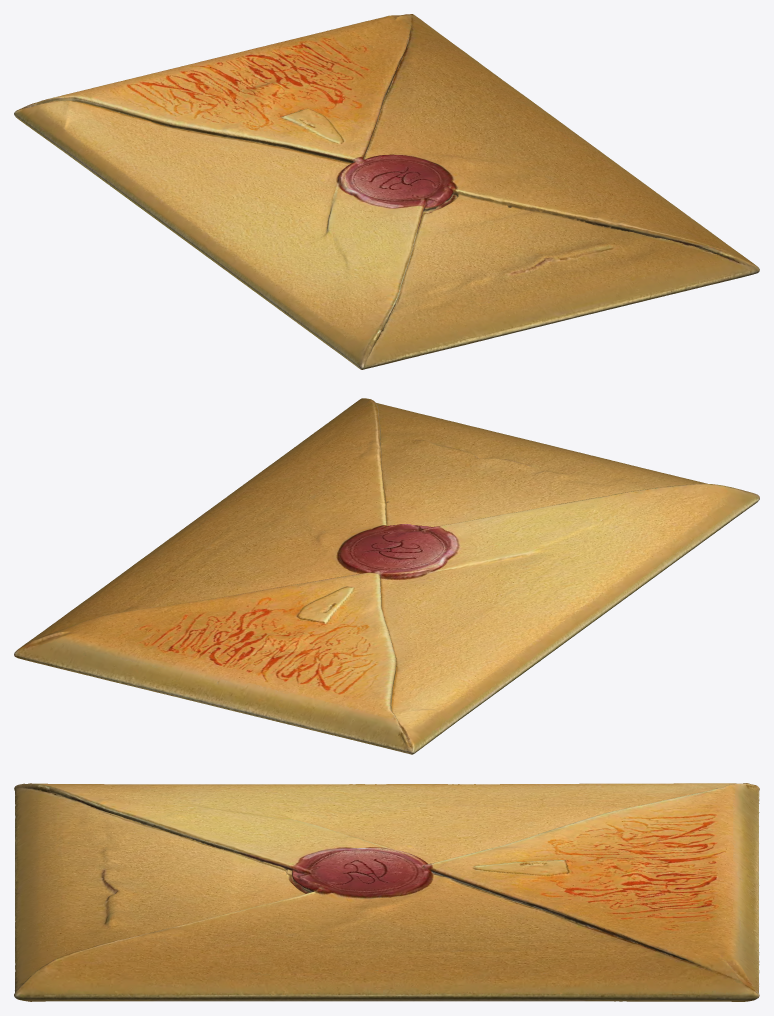
File: letter.glb
The picture shows the model from 3 angles, top to bottom: view 1: azimuth 30°, elevation 25°; view 2: azimuth 150°, elevation 25°; view 3: azimuth 270°, elevation 25°; orthographic projection. The views are drawn at different scales.
Parts seen in each view (by area): view 1: texture_mapping; view 2: texture_mapping; view 3: texture_mapping.
Part boxes in pixels (<box>): texture_mapping: <box>14,14,759,369</box>; texture_mapping: <box>14,398,759,754</box>; texture_mapping: <box>14,783,759,1001</box>.
Size of the model in its own units: 0.6632 by 0.0663 by 0.9992.
1 material, 1 textured.
